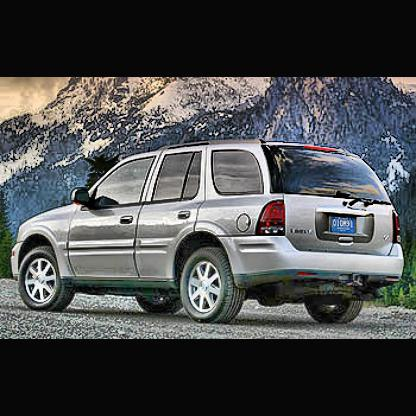Buick Rainier SUV 2007: (11, 138, 407, 329)
